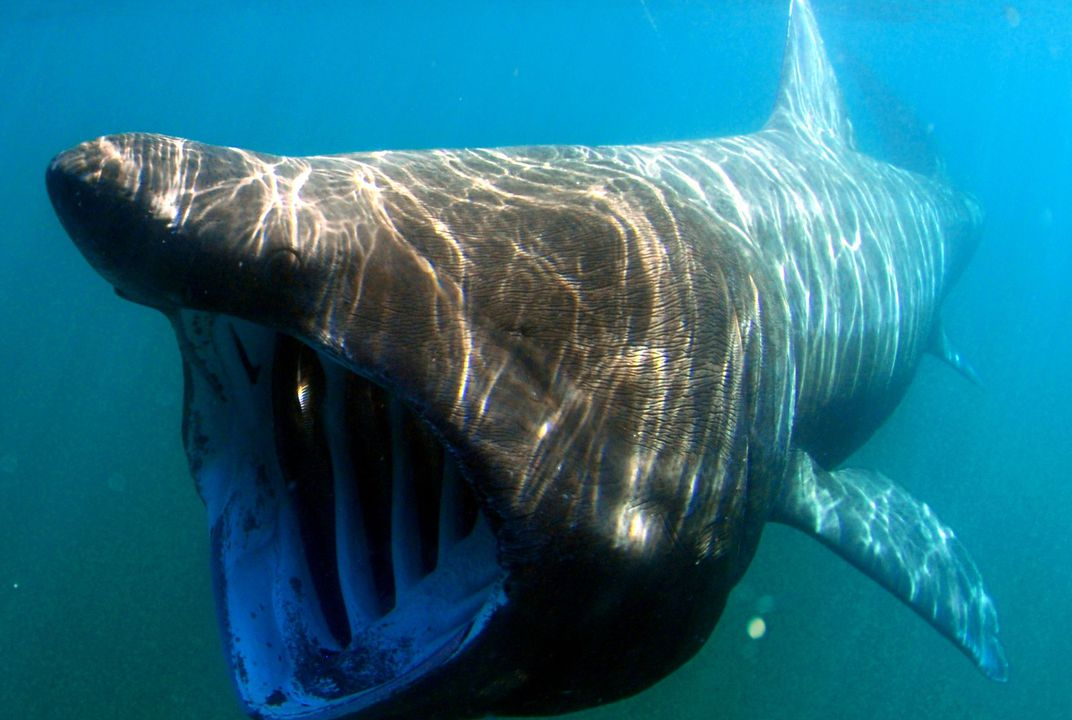shark: (18, 30, 1031, 720)
